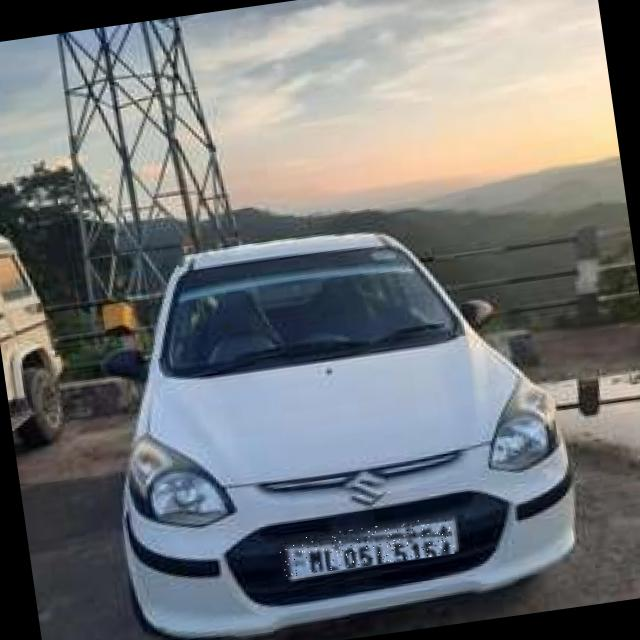Plate: (279, 517, 456, 579)
